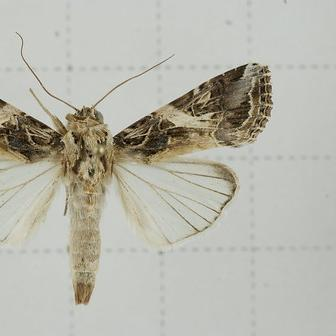Spodoptera litura: (1, 32, 274, 306)
